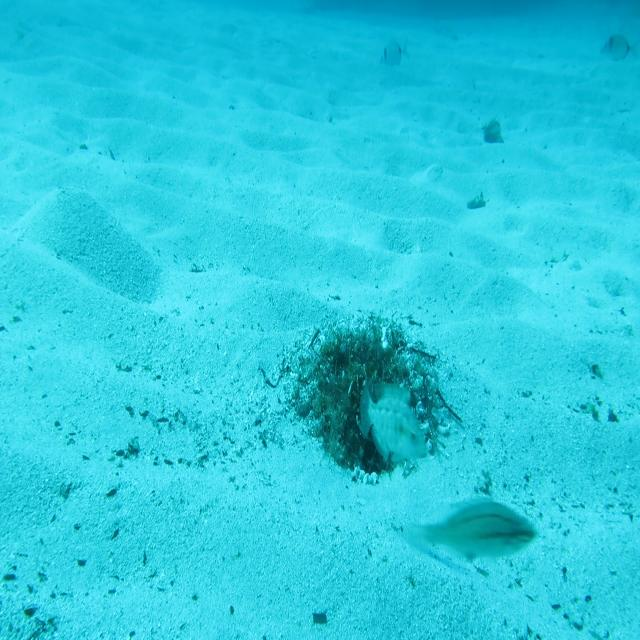CHASE_FLEE: (359, 379, 428, 466)
core_nest: (348, 345, 394, 381)
female: (402, 494, 540, 566)
nest: (280, 307, 456, 493)
other_fish: (596, 28, 640, 69), (376, 37, 412, 72)
vegetation: (481, 115, 505, 147), (467, 192, 487, 212), (310, 608, 329, 628)
